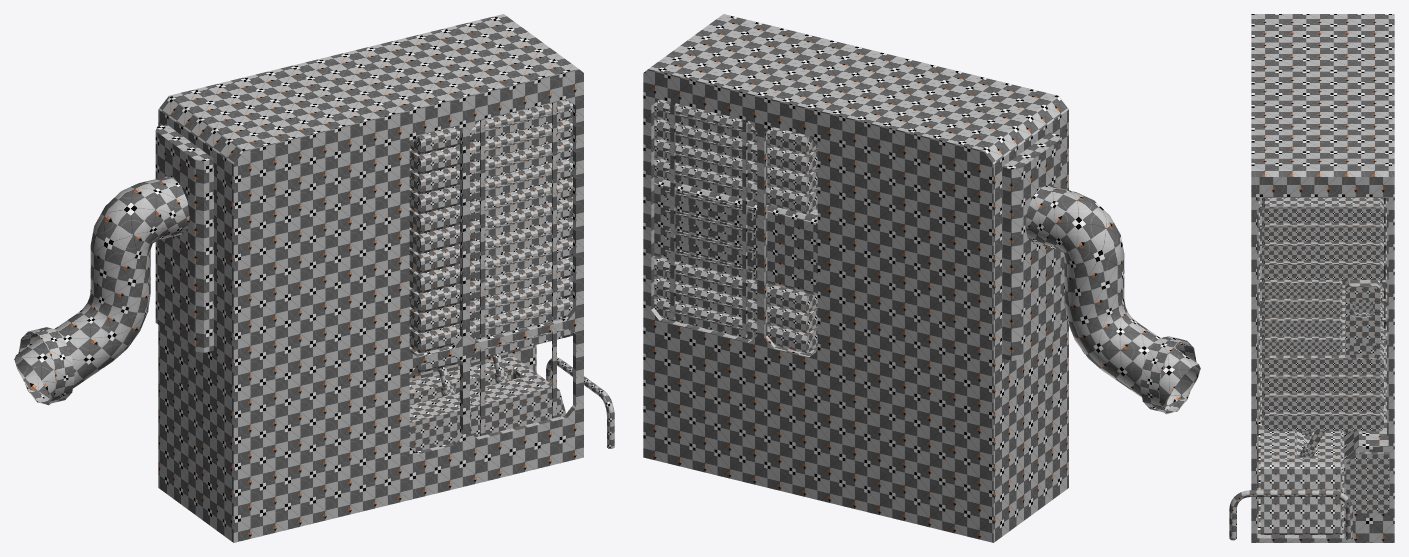
The model's file is Server_Gameready.FBX.
3 views of the same model, side by side, from view 1: azimuth 30°, elevation 25°; view 2: azimuth 150°, elevation 25°; view 3: azimuth 270°, elevation 25° (orthographic). The views are drawn at different scales.
Visible parts, largest first — view 1: Object36583, Object36554, Object36567, Object36571, Object36569, Object36572, Object36570, Object36568, Object36565, Object36566, Object36563, Object36562 (+3 smaller); view 2: Object36583, Object36554, Object36560, Object36567, Object36571, Object36566, Object36563, Object36565, Object36562, Object36564; view 3: Object36583, Object36564, Object36560, Object36567, Object36571, Object36565, Object36562, Object36561, Object36566, Object36563, Object36568, Object36572 (+3 smaller).
Boxes of the visible parts, x1=… form: Object36583: x1=158, y1=14, x2=583, y2=542; Object36554: x1=14, y1=124, x2=213, y2=405; Object36567: x1=409, y1=256, x2=572, y2=313; Object36571: x1=409, y1=137, x2=572, y2=194; Object36569: x1=409, y1=217, x2=572, y2=273; Object36572: x1=409, y1=197, x2=572, y2=253; Object36570: x1=409, y1=177, x2=572, y2=234; Object36568: x1=409, y1=236, x2=572, y2=293; Object36565: x1=409, y1=117, x2=572, y2=174; Object36566: x1=409, y1=276, x2=572, y2=333; Object36563: x1=409, y1=157, x2=572, y2=214; Object36562: x1=409, y1=296, x2=572, y2=353; Object36583: x1=643, y1=14, x2=1068, y2=542; Object36554: x1=1002, y1=132, x2=1200, y2=414; Object36560: x1=654, y1=177, x2=817, y2=295; Object36567: x1=654, y1=256, x2=817, y2=313; Object36571: x1=654, y1=137, x2=817, y2=194; Object36566: x1=654, y1=276, x2=817, y2=333; Object36563: x1=654, y1=157, x2=817, y2=214; Object36565: x1=654, y1=118, x2=817, y2=174; Object36562: x1=654, y1=296, x2=817, y2=353; Object36564: x1=654, y1=99, x2=817, y2=154; Object36583: x1=1251, y1=14, x2=1394, y2=542; Object36564: x1=1262, y1=198, x2=1383, y2=223; Object36560: x1=1345, y1=280, x2=1380, y2=359; Object36567: x1=1262, y1=285, x2=1383, y2=374; Object36571: x1=1262, y1=239, x2=1383, y2=261; Object36565: x1=1262, y1=220, x2=1383, y2=242; Object36562: x1=1262, y1=390, x2=1383, y2=412; Object36561: x1=1262, y1=409, x2=1383, y2=431; Object36566: x1=1262, y1=371, x2=1383, y2=393; Object36563: x1=1262, y1=258, x2=1383, y2=279; Object36568: x1=1262, y1=334, x2=1342, y2=355; Object36572: x1=1262, y1=296, x2=1342, y2=317.
Size of the model in its own units: 164 by 113 by 45.62.
